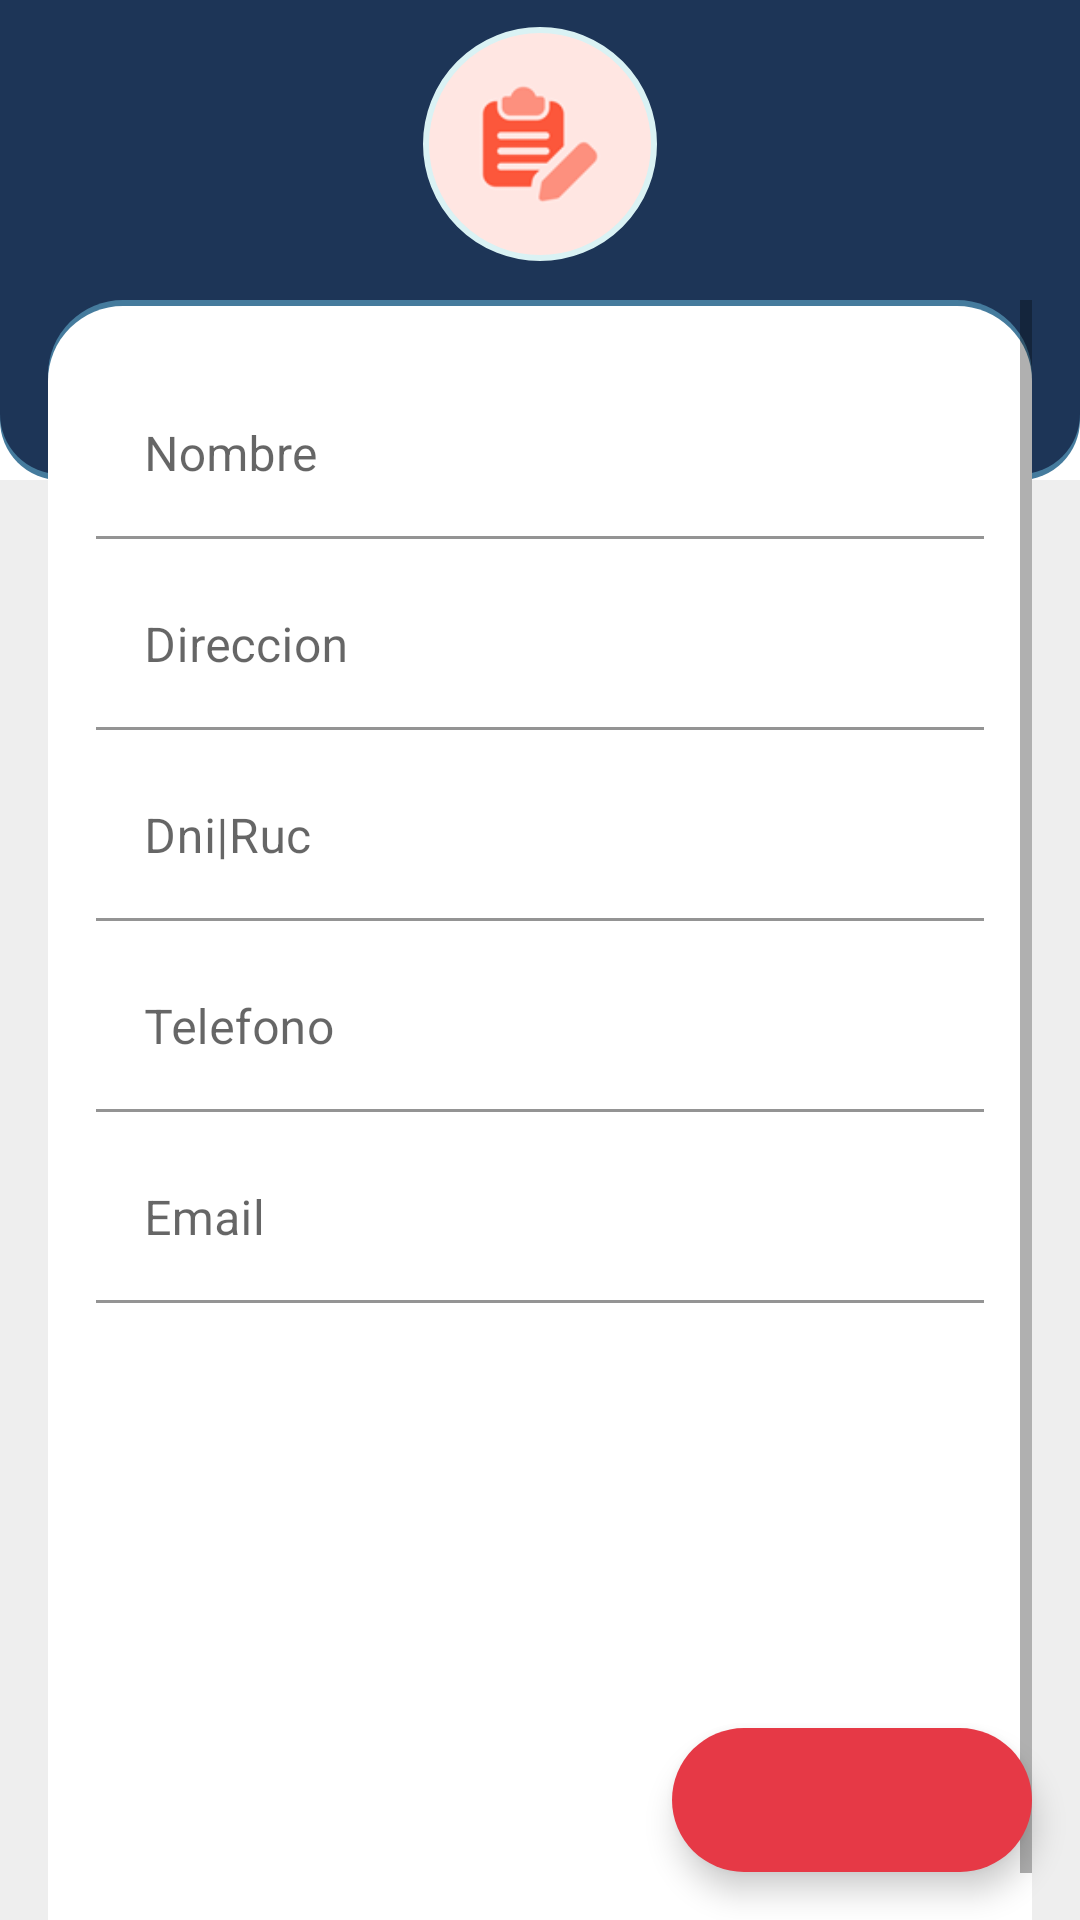

Icon bounding boxes for this 1080x1920 phone screenshot, format (x1, y1, x2, y2):
editar: (423, 27, 657, 261)
